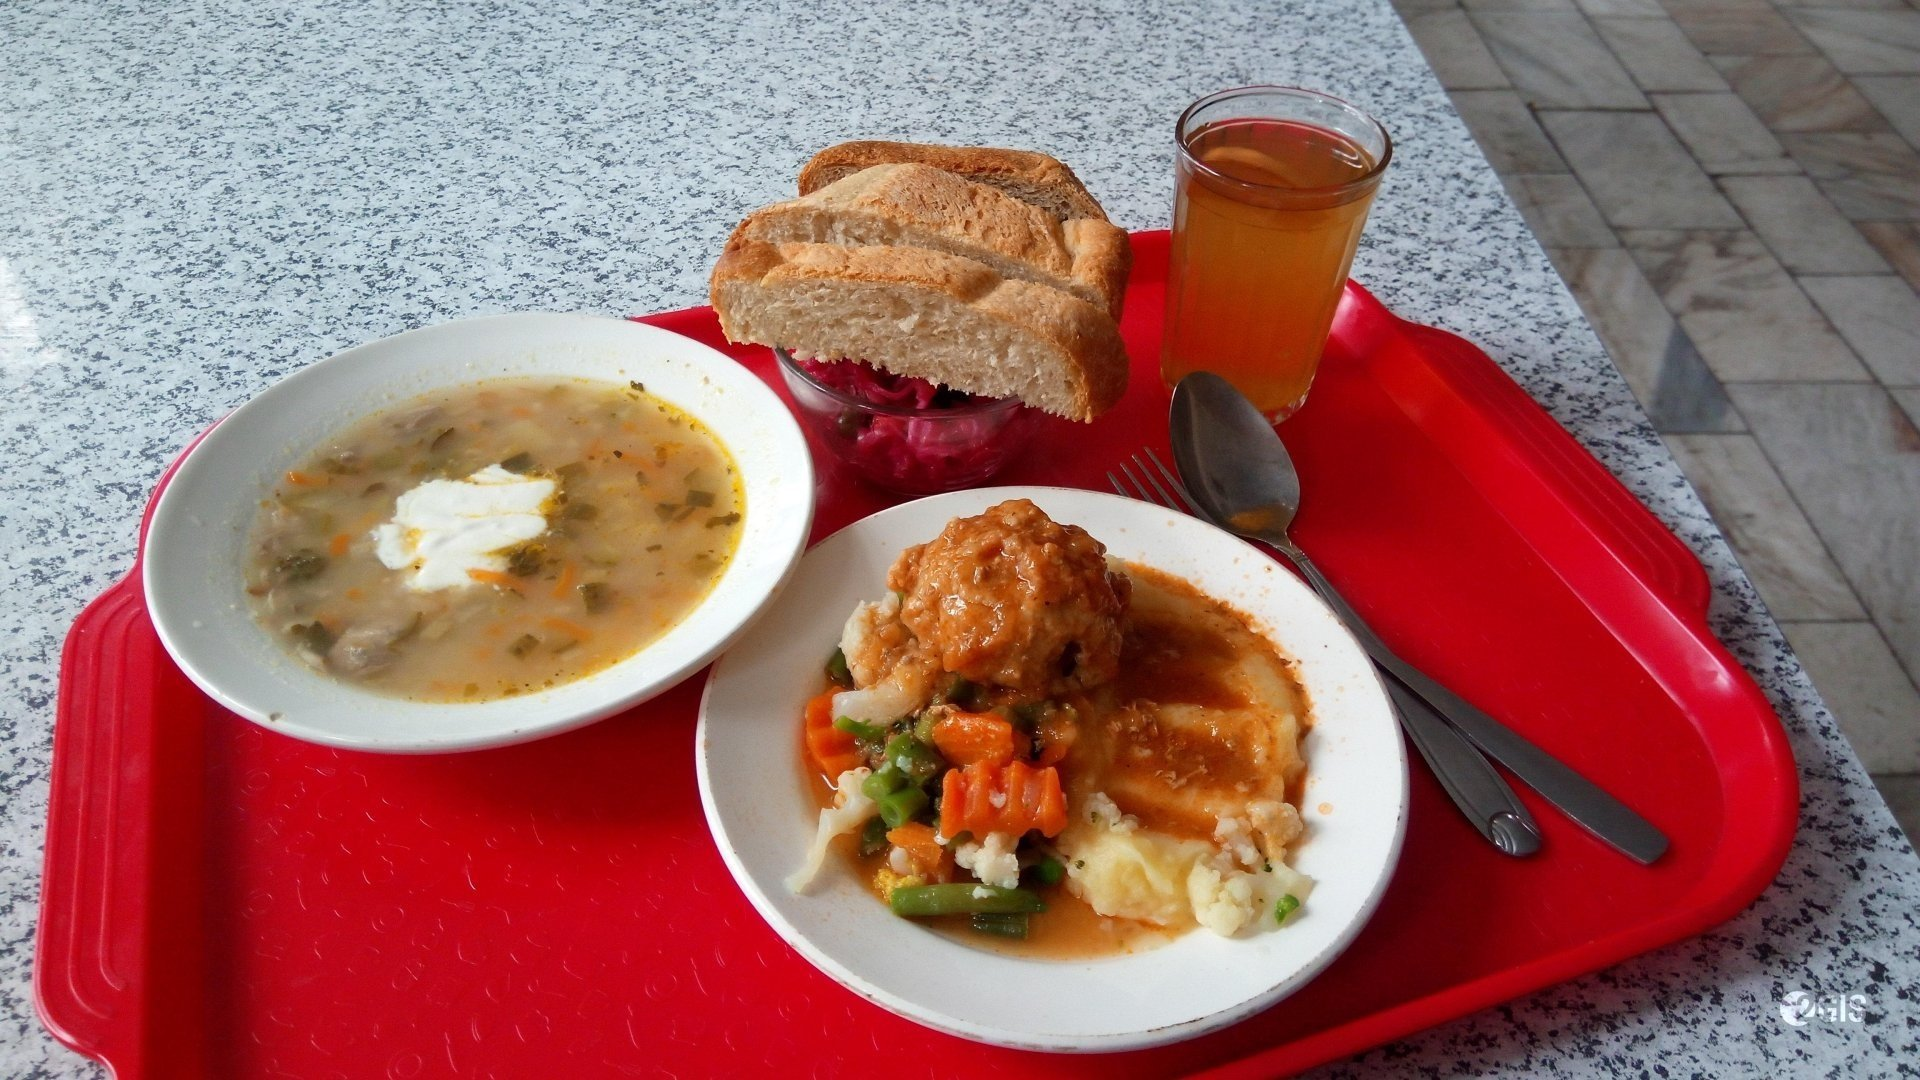bowl: (138, 314, 820, 757), (765, 351, 1069, 501)
cutlery: (1135, 390, 1677, 905)
drink: (1159, 79, 1389, 434)
other: (717, 142, 1135, 427)
plate: (712, 484, 1400, 1052)
